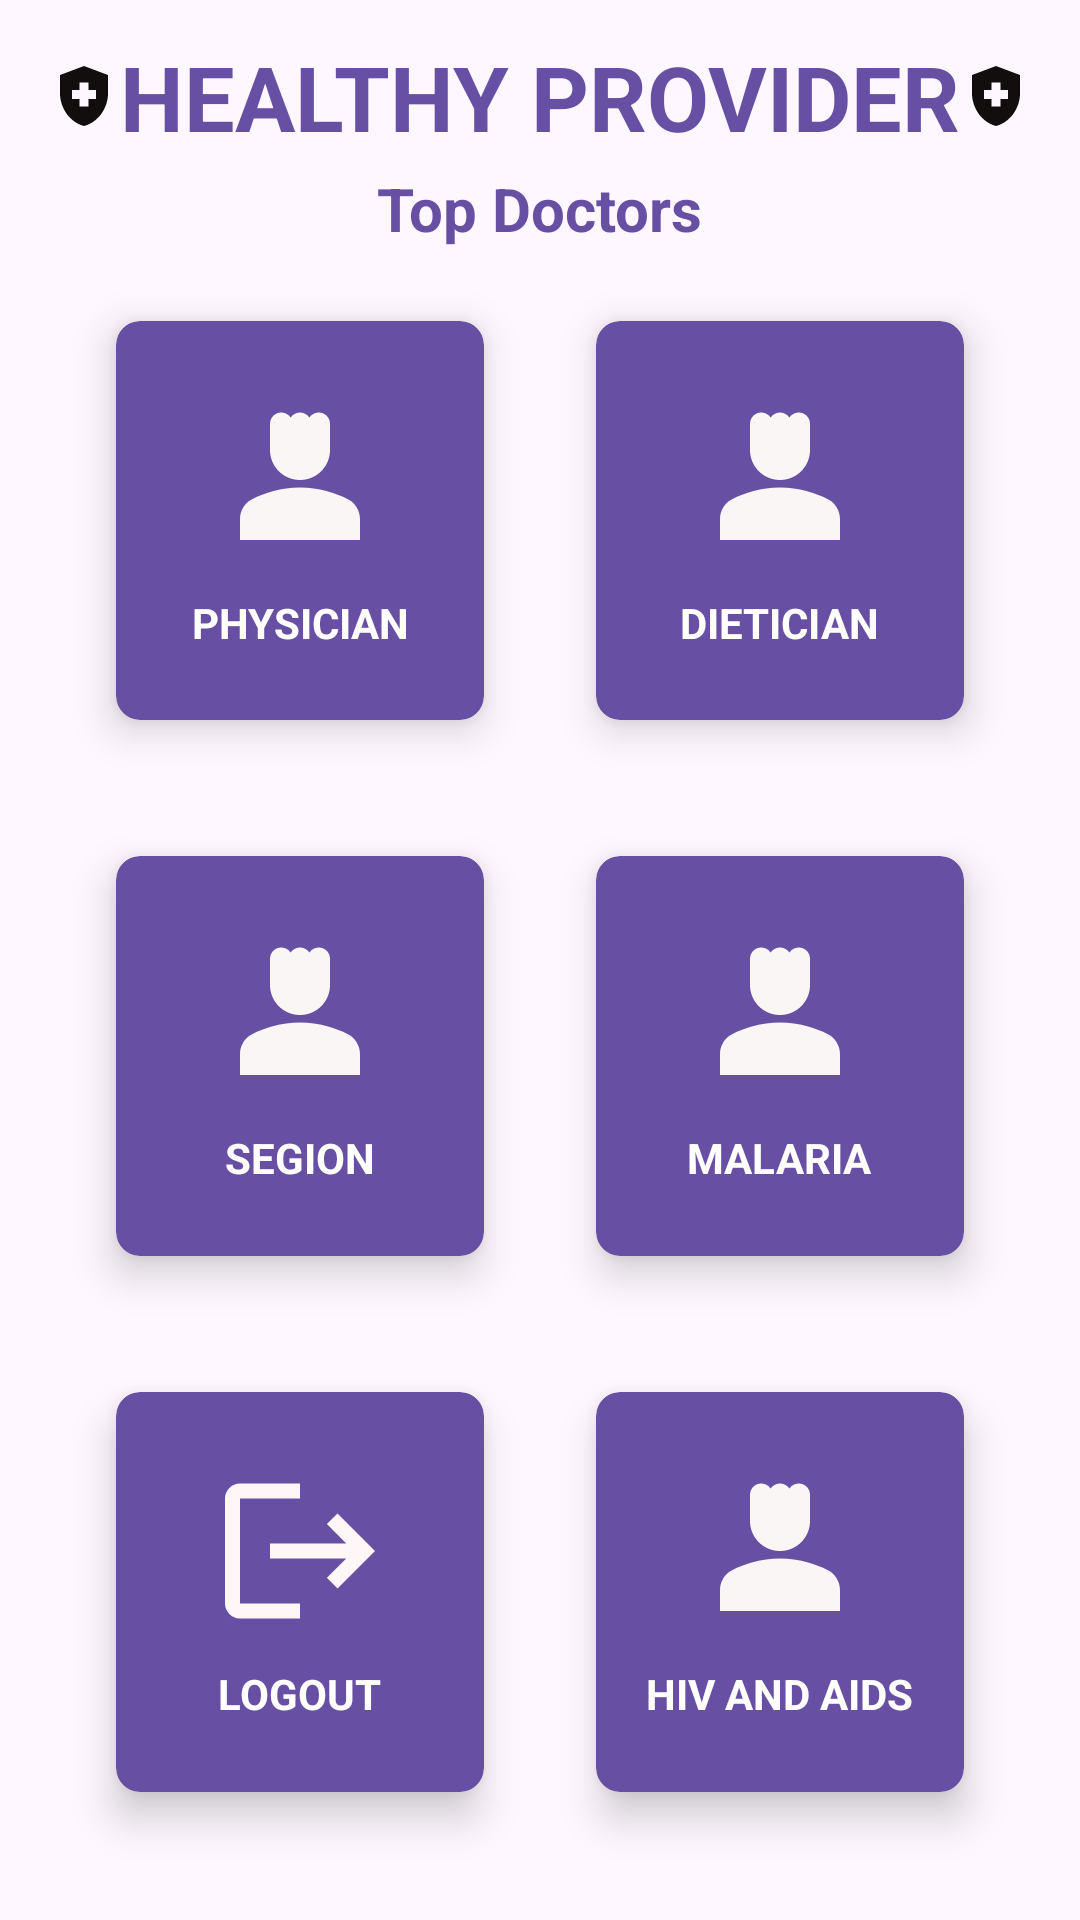

Screen size 1080x1920. Icon name, then its box in pixels as (x1, y1, x2, y2):
person: (240, 412, 360, 540), (720, 412, 840, 540), (240, 947, 360, 1075), (720, 947, 840, 1075), (720, 1483, 840, 1611)
